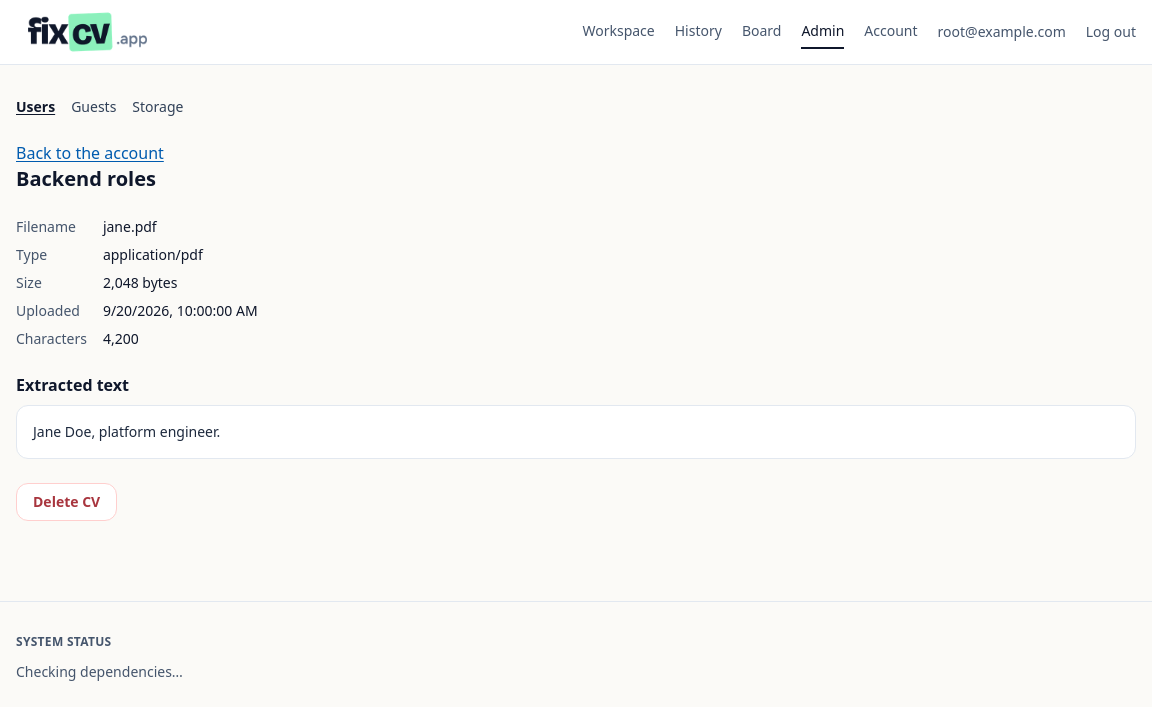
Test: the dialogs — AC-29 › Delete CV names the CV and says what goes and that it cannot be undone
This screenshot has width=1152, height=707.
What coordinates should you click on to do the following:
click the button "Delete CV"
I would click on:
 (67, 502)
Its box is x1=16 y1=483 x2=117 y2=521.
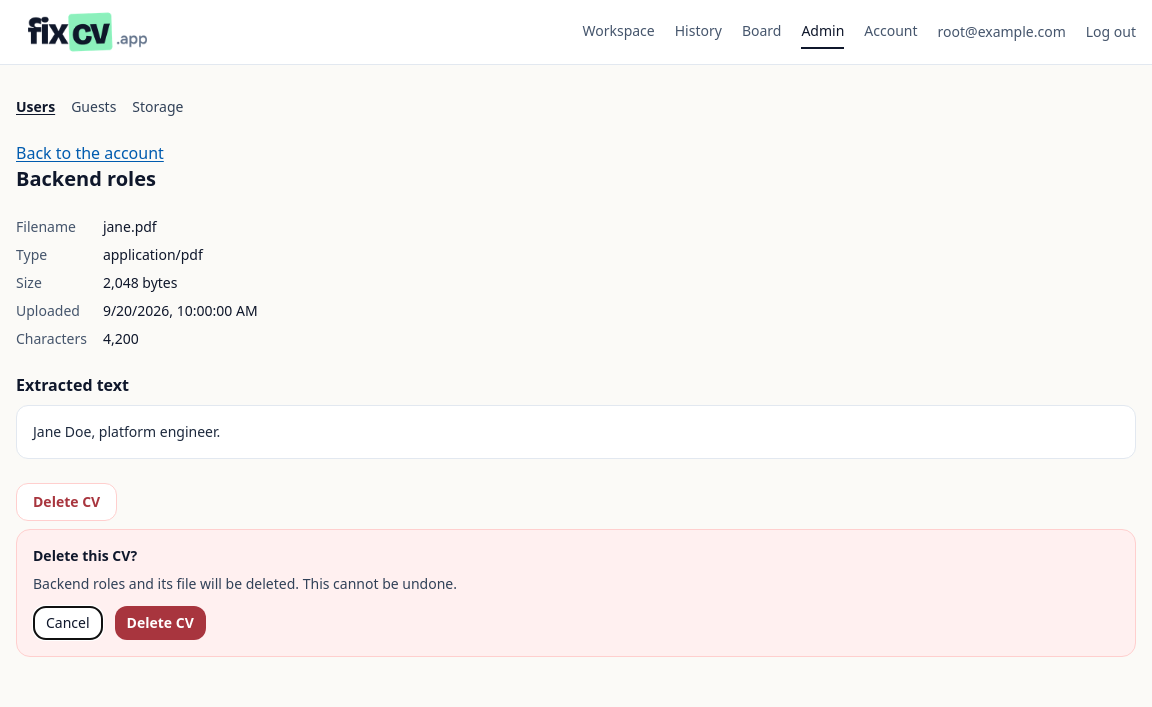
Now the heading "Delete this CV?" is shown, box x1=33 y1=546 x2=137 y2=565
Now the button "Cancel" is shown, box x1=33 y1=606 x2=103 y2=640
